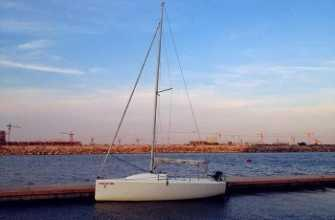fanchuan: (88, 3, 235, 200)
